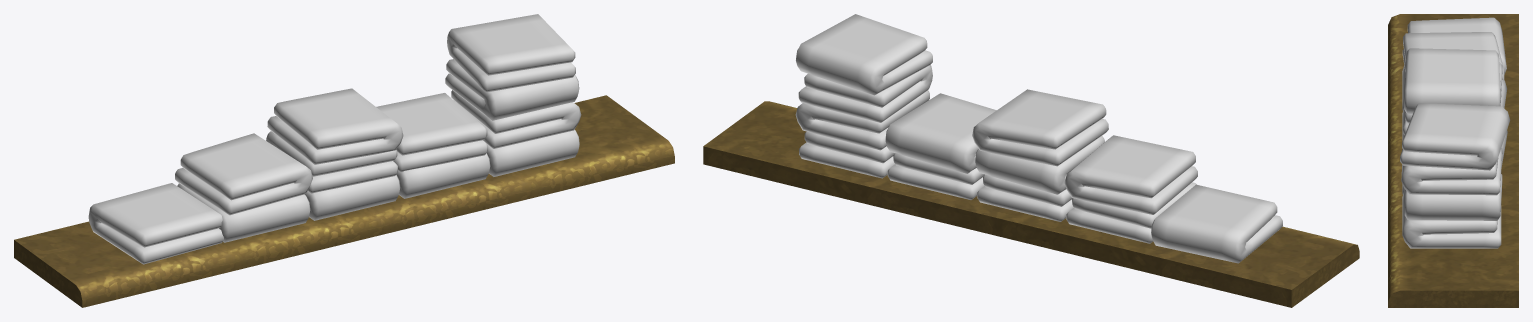
File: DI_048_towels_on_shelf.glb
3 views of the same model, side by side, from view 1: azimuth 30°, elevation 25°; view 2: azimuth 150°, elevation 25°; view 3: azimuth 270°, elevation 25° (orthographic). The views are drawn at different scales.
Parts seen in each view (by area): view 1: Shelf.001, Towel1.005, Towel1.004, Towel1.011, Towel1.002, Towel1.007, Towel1.010, Towel1.009, Towel1.001, Towel1.003, Towel1.008, Towel1 (+1 smaller); view 2: Shelf.001, Towel1.004, Towel1.011, Towel1.002, Towel1.005, Towel1.007, Towel1.010, Towel1.009, Towel1.001, Towel1.003, Towel1.008, Towel1 (+1 smaller); view 3: Shelf.001, Towel1.011, Towel1.002, Towel1.008, Towel1.010, Towel1.009, Towel1.004, Towel1.005, Towel1.001, Towel1.003.
Part boxes in pixels (x1=…): Shelf.001: x1=14, y1=95, x2=674, y2=307; Towel1.005: x1=88, y1=183, x2=223, y2=264; Towel1.004: x1=175, y1=133, x2=312, y2=215; Towel1.011: x1=447, y1=14, x2=575, y2=92; Towel1.002: x1=267, y1=88, x2=403, y2=164; Towel1.007: x1=376, y1=93, x2=487, y2=172; Towel1.010: x1=445, y1=59, x2=579, y2=120; Towel1.009: x1=451, y1=90, x2=581, y2=148; Towel1.001: x1=266, y1=131, x2=397, y2=193; Towel1.003: x1=177, y1=183, x2=310, y2=242; Towel1.008: x1=487, y1=129, x2=579, y2=176; Towel1: x1=304, y1=175, x2=400, y2=220; Shelf.001: x1=703, y1=101, x2=1359, y2=307; Towel1.004: x1=1064, y1=135, x2=1197, y2=214; Towel1.011: x1=796, y1=14, x2=932, y2=95; Towel1.002: x1=972, y1=89, x2=1108, y2=166; Towel1.005: x1=1151, y1=184, x2=1282, y2=263; Towel1.007: x1=885, y1=93, x2=996, y2=173; Towel1.010: x1=798, y1=65, x2=932, y2=122; Towel1.009: x1=795, y1=90, x2=929, y2=150; Towel1.001: x1=975, y1=136, x2=1104, y2=194; Towel1.003: x1=1066, y1=182, x2=1196, y2=243; Towel1.008: x1=799, y1=131, x2=894, y2=178; Towel1: x1=977, y1=174, x2=1073, y2=221; Shelf.001: x1=1388, y1=14, x2=1518, y2=307; Towel1.011: x1=1400, y1=103, x2=1510, y2=170; Towel1.002: x1=1404, y1=48, x2=1502, y2=113; Towel1.008: x1=1402, y1=189, x2=1501, y2=248; Towel1.010: x1=1401, y1=148, x2=1502, y2=195; Towel1.009: x1=1404, y1=174, x2=1502, y2=220; Towel1.004: x1=1402, y1=32, x2=1504, y2=79; Towel1.005: x1=1407, y1=17, x2=1506, y2=74; Towel1.001: x1=1403, y1=78, x2=1507, y2=135; Towel1.003: x1=1402, y1=65, x2=1405, y2=110.
Size of the model in its own units: 3.75 by 0.7904 by 0.75.
Materials: 2 (1 with a texture image).
